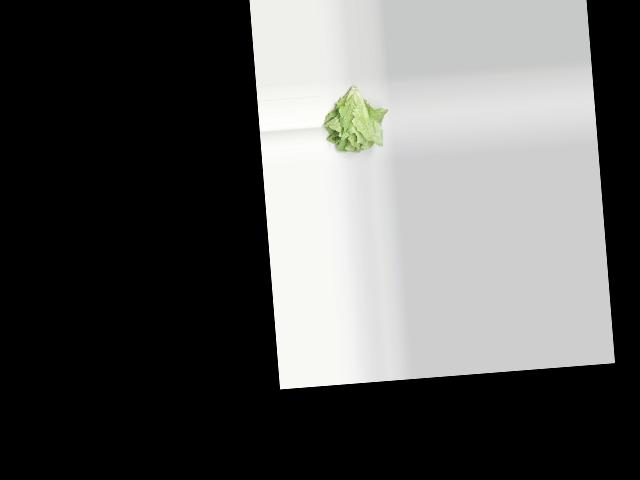lettuce: (316, 78, 389, 158)
